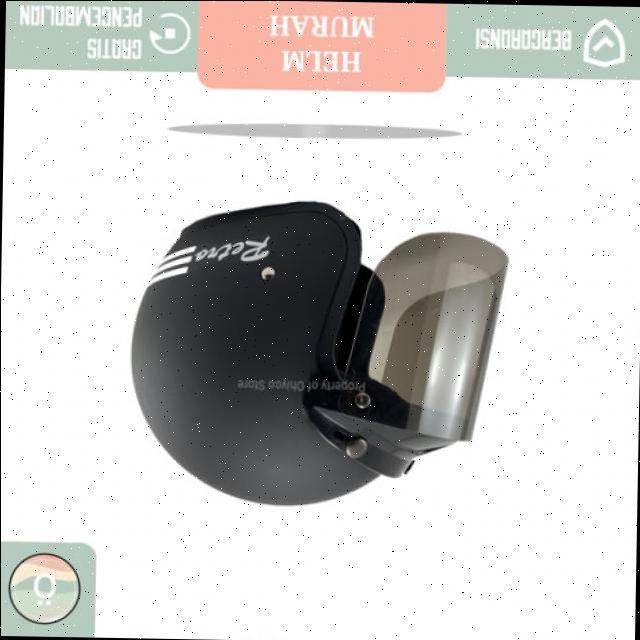Helm: (114, 193, 518, 512)
